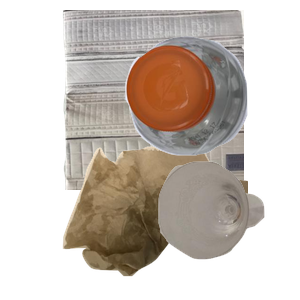glass: (156, 159, 300, 300)
paper: (60, 10, 300, 190)
plastic: (123, 33, 300, 181)
trash: (60, 142, 300, 300)
